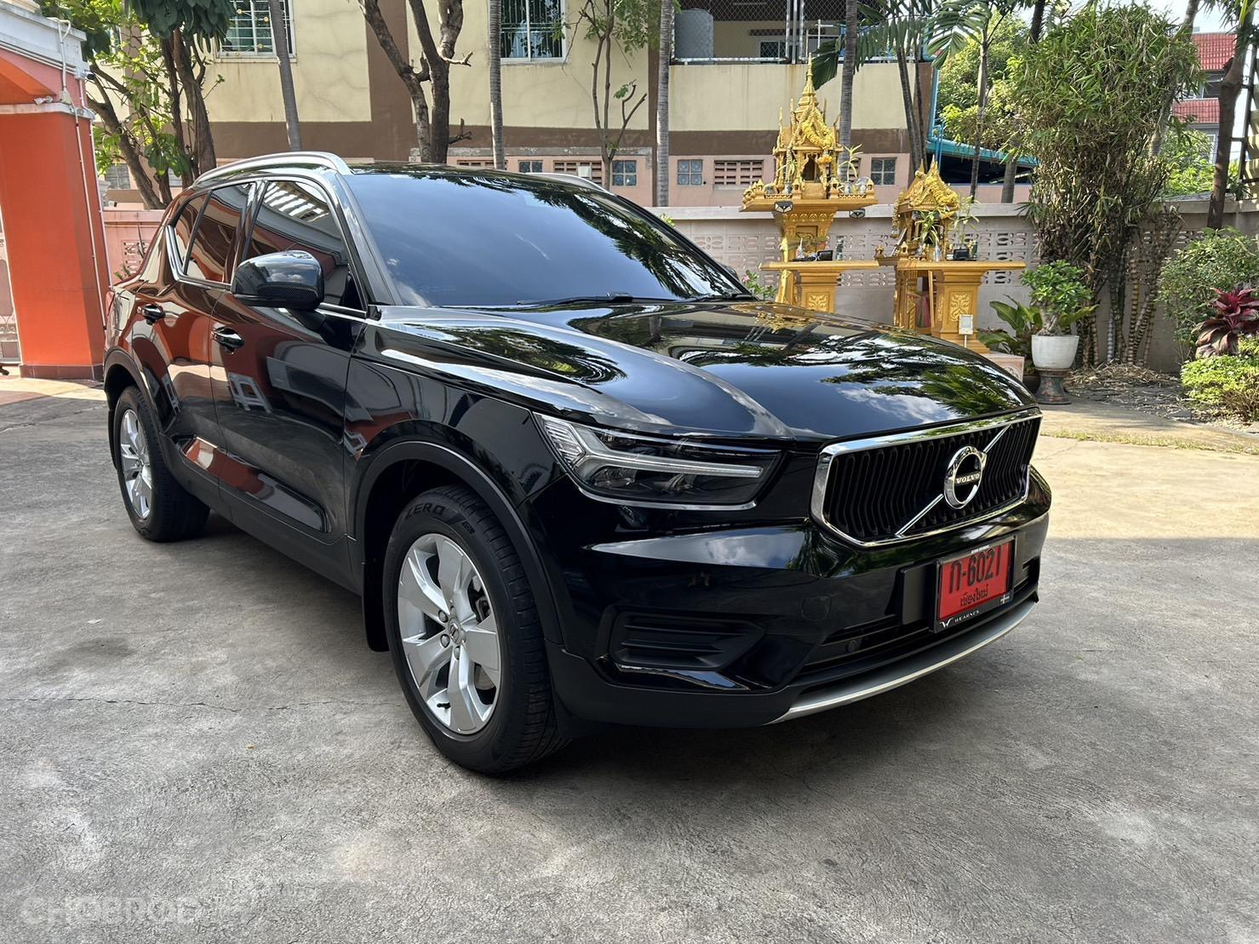license-plate: (927, 530, 1025, 641)
